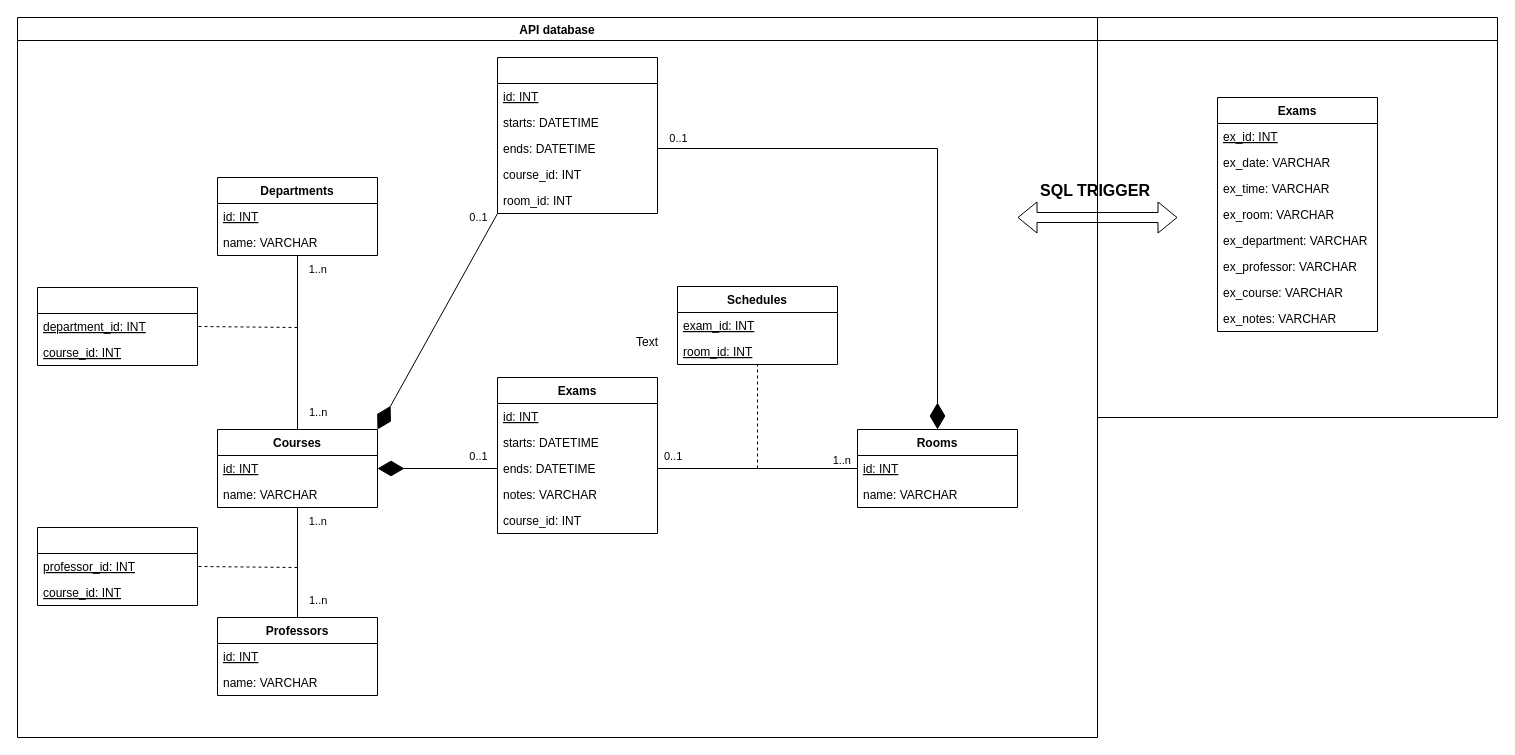
The diagram is 1515 pixels wide and 755 high, and some of its shapes have lost their labels. The box of each missing label's shape, as (x1, y1, x2, y2) in pixels:
AUEB database: (1096, 16, 1498, 418)
DepartmentCourses: (36, 286, 198, 366)
Lectures: (496, 56, 658, 214)
ProfessorCourses: (36, 526, 198, 606)
